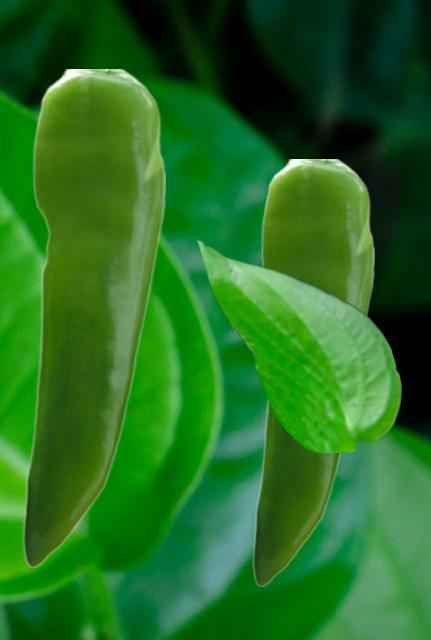green_chili: (22, 69, 164, 566), (252, 159, 373, 585)
